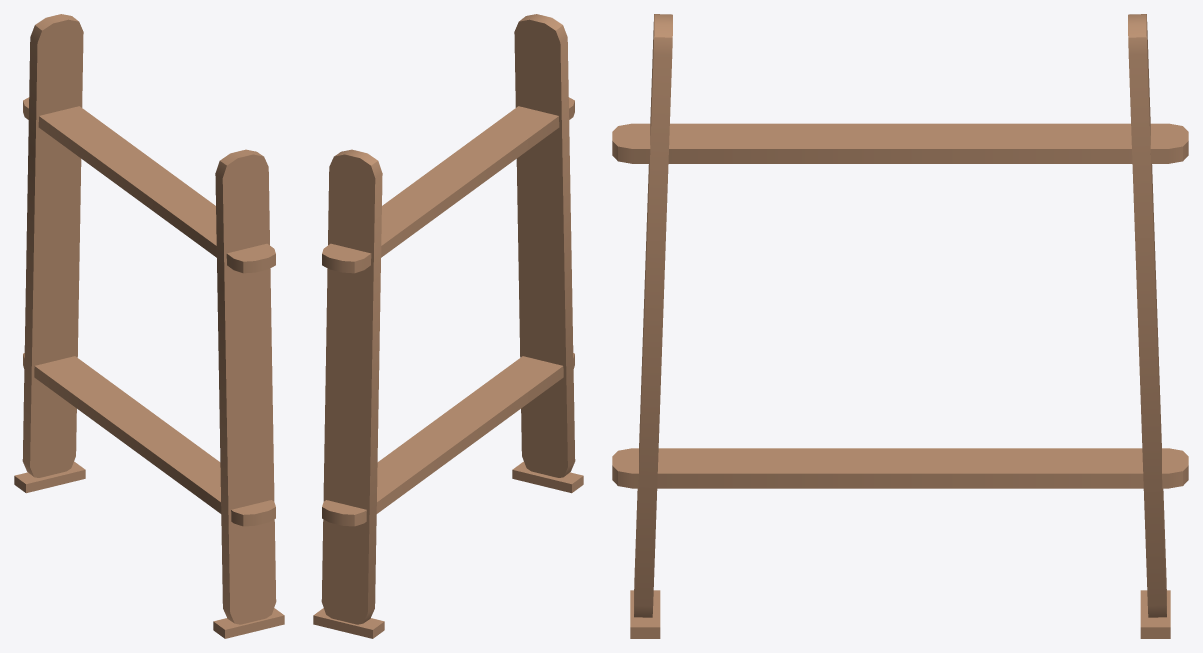
File: WeaponStand.fbx
3 renders of one model, left to right at view 1: azimuth 30°, elevation 25°; view 2: azimuth 150°, elevation 25°; view 3: azimuth 270°, elevation 25°, orthographic. The views are drawn at different scales.
Parts seen in each view (by area): view 1: Cube.002; view 2: Cube.002; view 3: Cube.002.
Part boxes in pixels (x1=…): Cube.002: x1=14, y1=14, x2=284, y2=638; Cube.002: x1=313, y1=14, x2=583, y2=638; Cube.002: x1=612, y1=14, x2=1188, y2=638.
Bounding box in the file's own units: 33.7 × 253 × 220.
